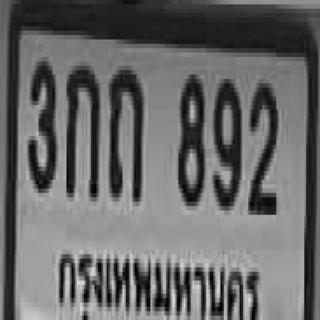A01: (65, 61, 98, 193)
A22: (107, 66, 142, 197)
N02: (247, 79, 276, 210)
N03: (26, 57, 54, 188)
N08: (177, 70, 203, 202)
N09: (212, 74, 240, 206)
P04: (52, 246, 266, 320)
